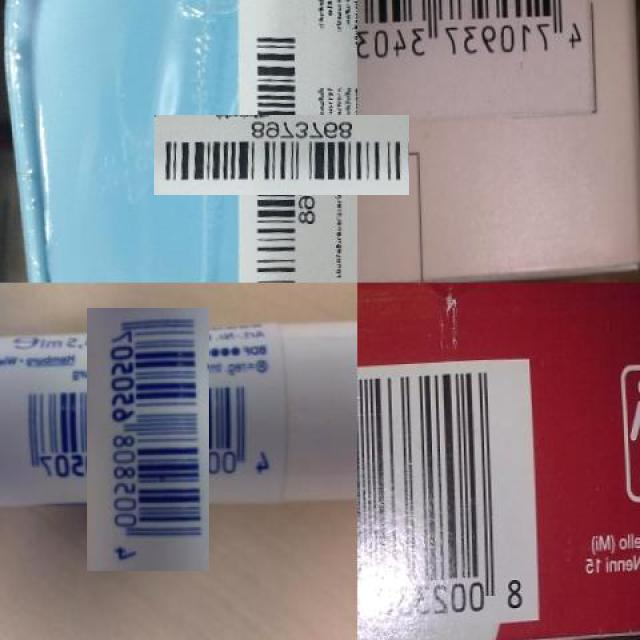Barcode: (357, 364, 539, 639), (52, 343, 245, 537), (198, 70, 366, 238), (357, 0, 591, 92)
